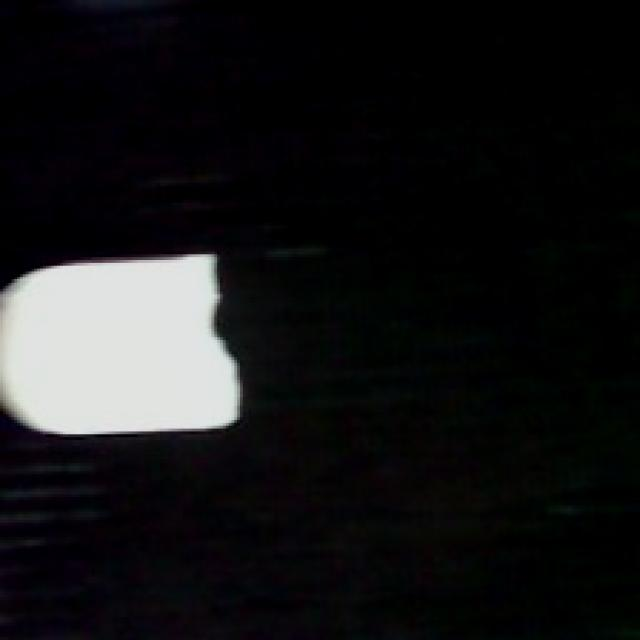defected: (3, 248, 246, 448)
